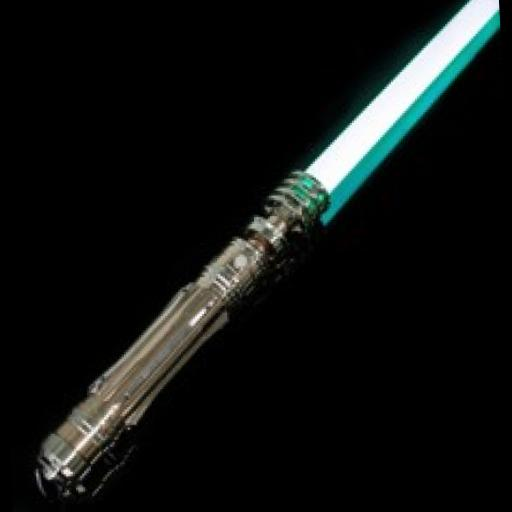lightsaber: (10, 0, 512, 512)
